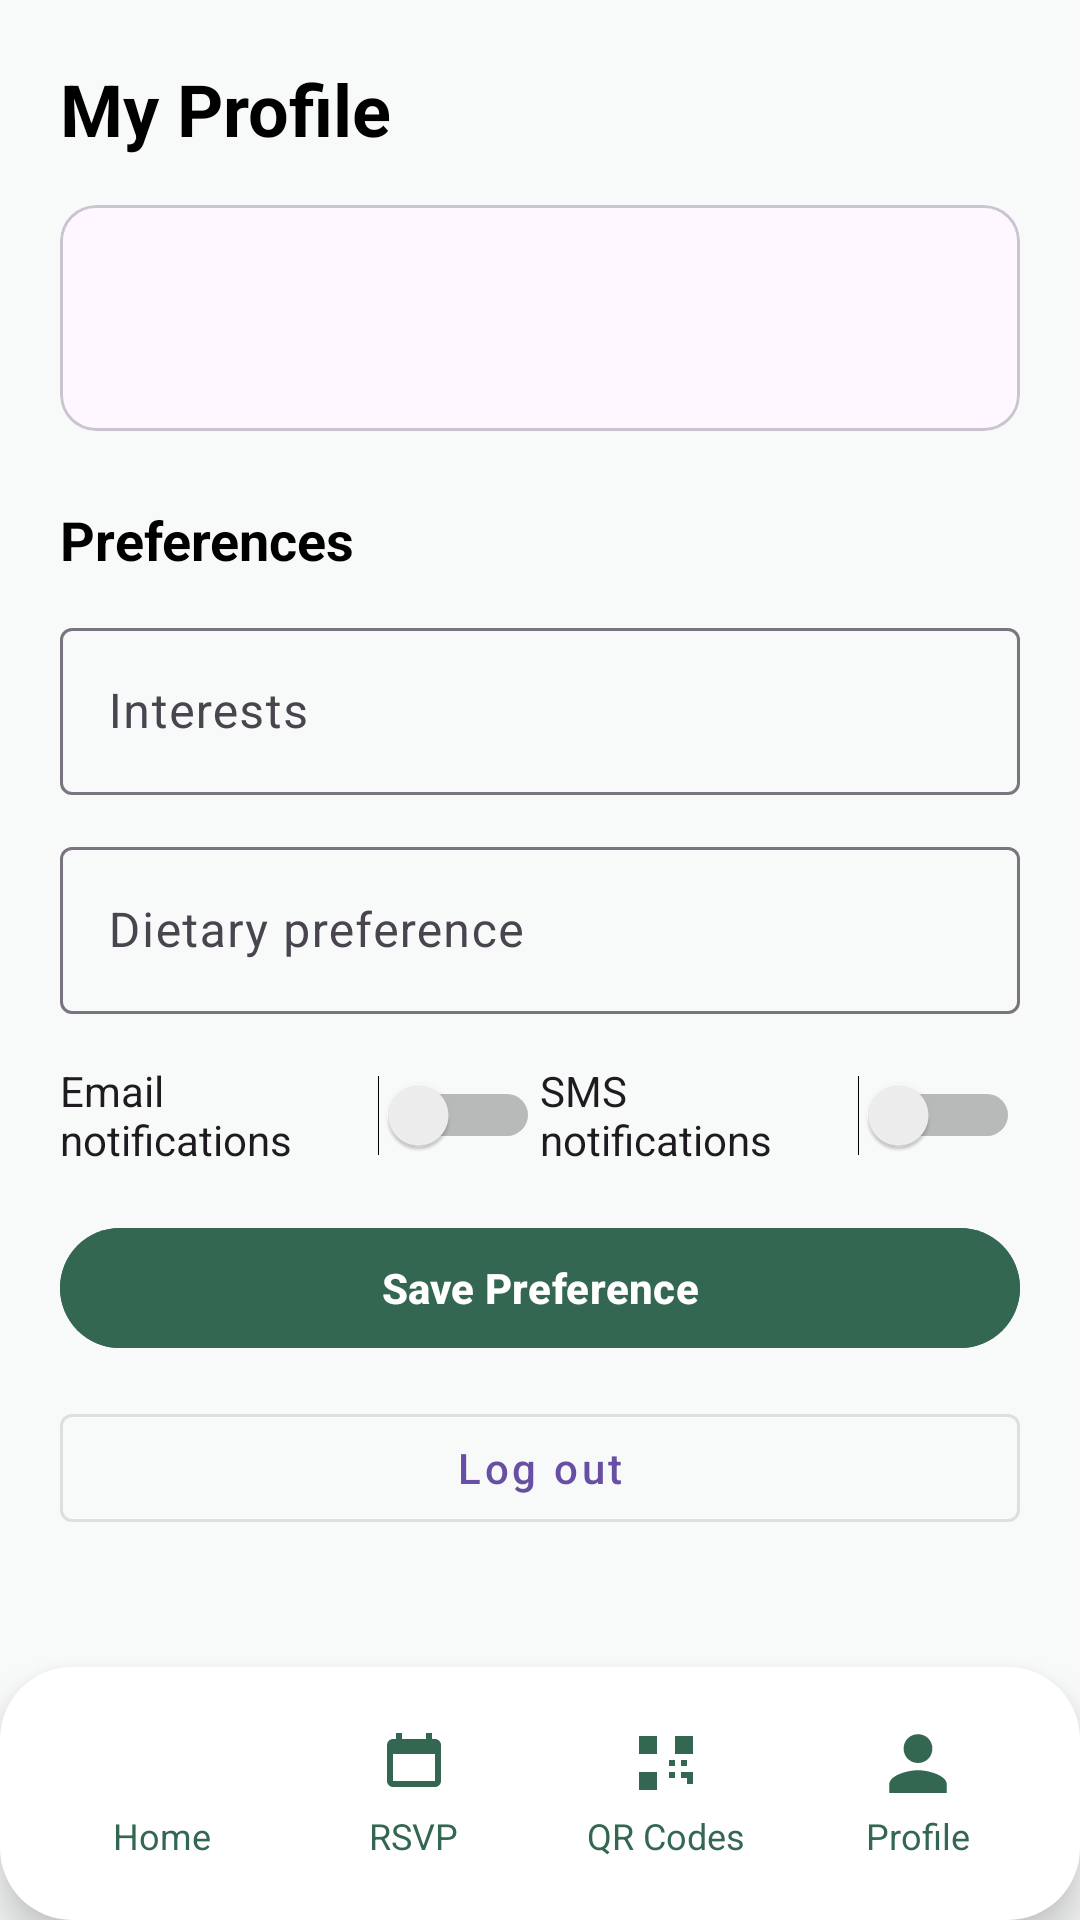

Named icons in this screenshot (1080w x 1920h) and their bounding boxes, (x1, y1, x2, y2):
calendar: (387, 1733, 441, 1787)
